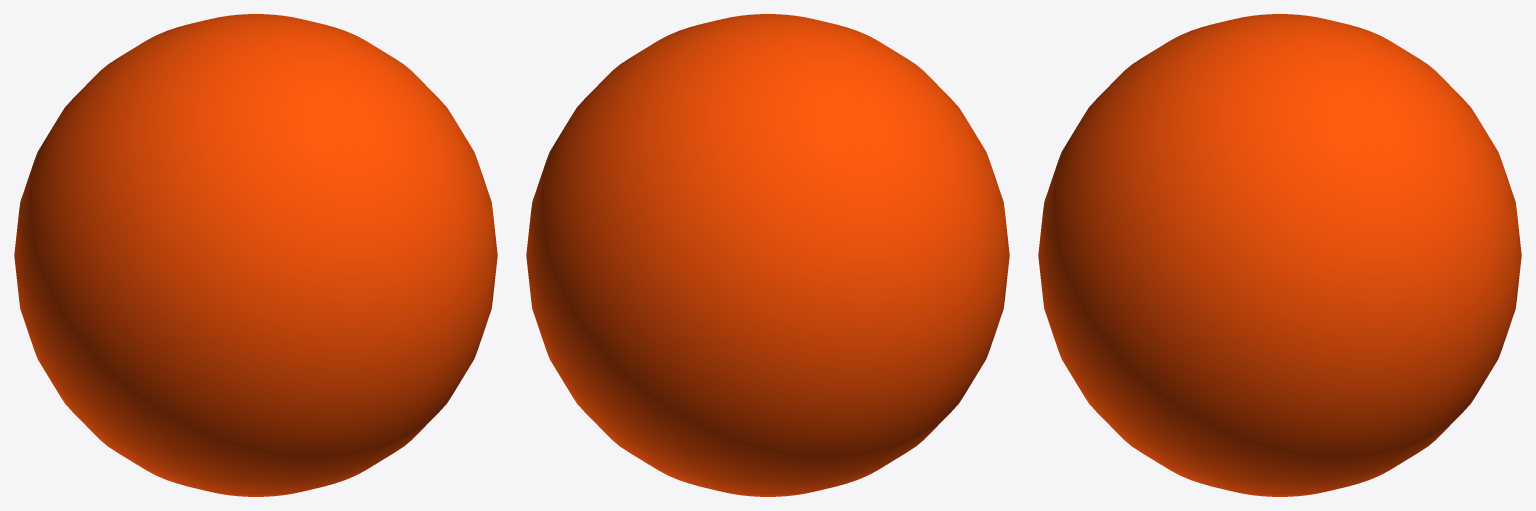
File: orange_orb.fbx
3 views of the same model, side by side, from view 1: azimuth 30°, elevation 25°; view 2: azimuth 150°, elevation 25°; view 3: azimuth 270°, elevation 25° (orthographic).
Parts seen in each view (by area): view 1: Sphere; view 2: Sphere; view 3: Sphere.
Part boxes in pixels (<box>): Sphere: <box>14,14,497,496</box>; Sphere: <box>526,14,1009,496</box>; Sphere: <box>1038,14,1521,496</box>.
Size of the model in its own units: 100 by 100 by 100.
